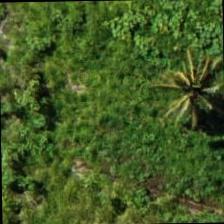Kelapa_Sawit: (142, 37, 223, 129)
